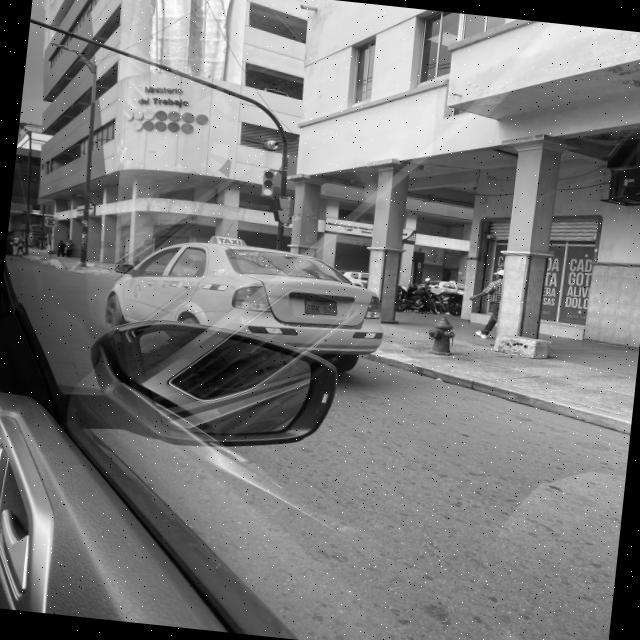Placa: (305, 300, 337, 315)
